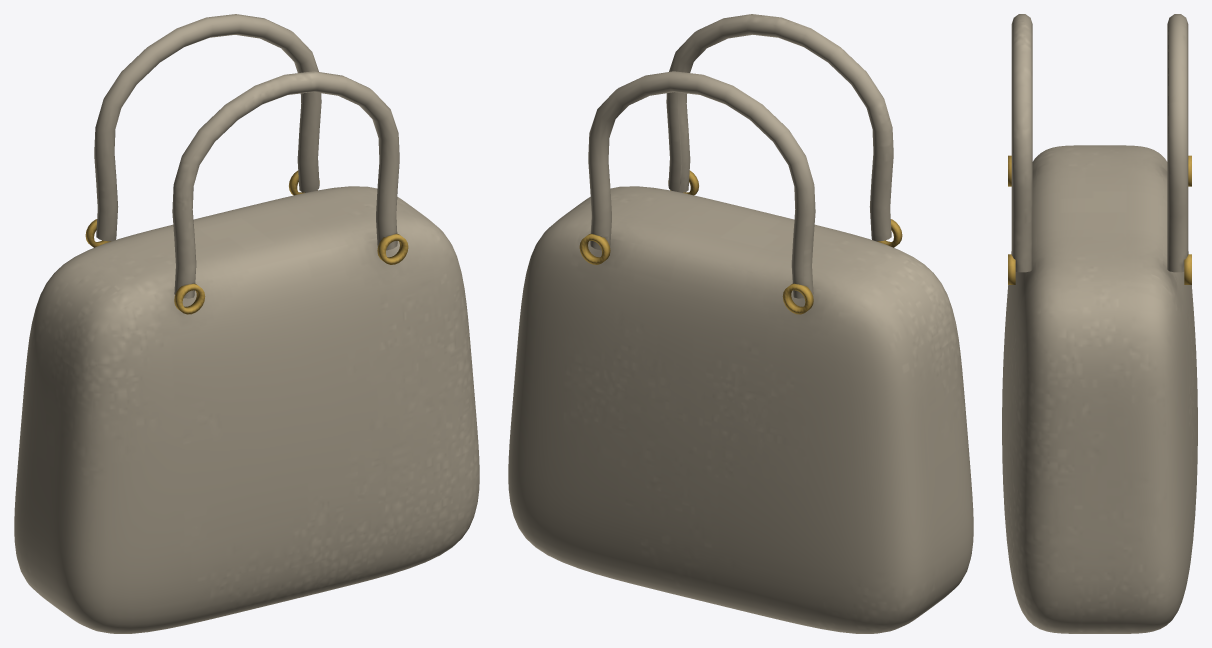
Rendered from tote-cream.glb.
3 renders of one model, left to right at view 1: azimuth 30°, elevation 25°; view 2: azimuth 150°, elevation 25°; view 3: azimuth 270°, elevation 25°, orthographic.
Visible parts, largest first — view 1: leather_primary, gold_hw; view 2: leather_primary, gold_hw; view 3: leather_primary, gold_hw.
Part boxes in pixels (left/top/right/bottom): leather_primary: left=14, top=14, right=479, bottom=633; gold_hw: left=85, top=170, right=408, bottom=314; leather_primary: left=508, top=14, right=973, bottom=633; gold_hw: left=579, top=170, right=902, bottom=314; leather_primary: left=1002, top=14, right=1197, bottom=633; gold_hw: left=1008, top=155, right=1191, bottom=284.
Size of the model in its own units: 0.367 by 0.4543 by 0.1512.
Materials: 2 (2 with a texture image).
